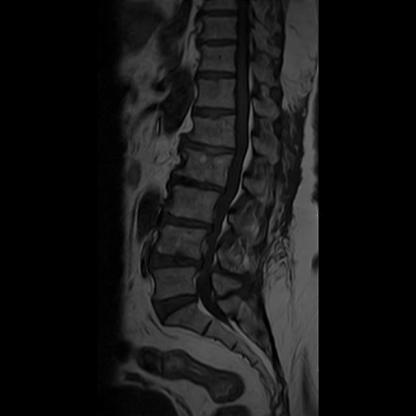Disc Bulgerotation: (152, 289, 205, 326), (145, 250, 208, 278), (156, 208, 217, 235), (166, 172, 229, 197)
